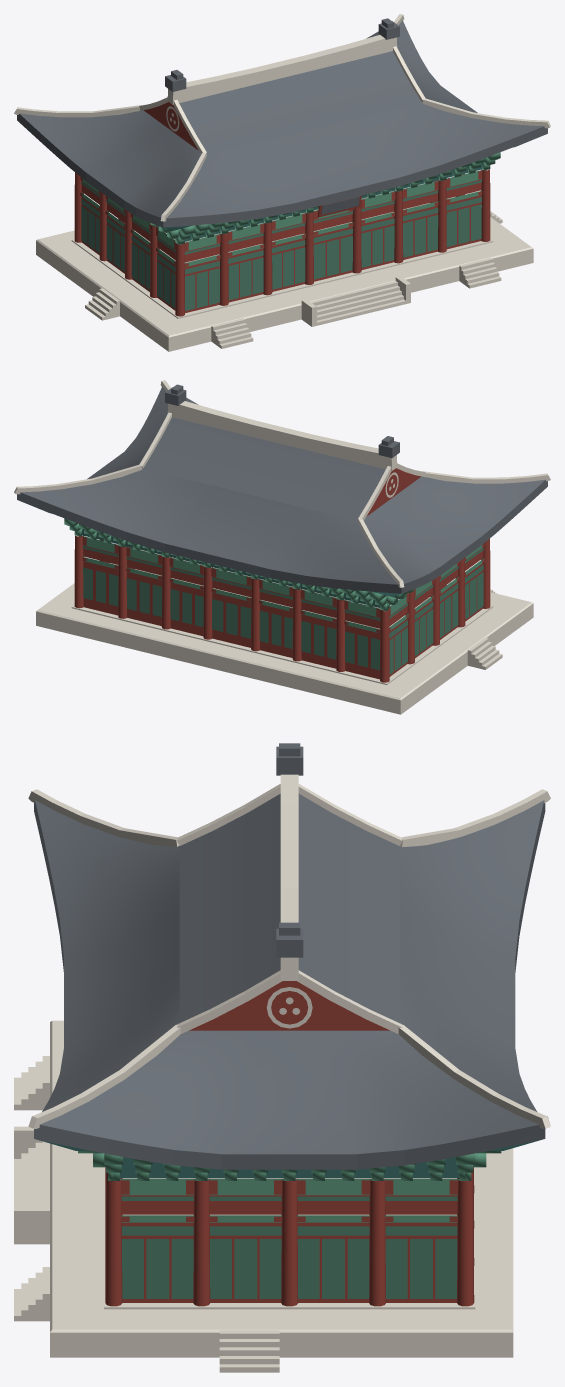
File: seoul-jogyesa.glb
3 views of the same model, one above another, from view 1: azimuth 30°, elevation 25°; view 2: azimuth 150°, elevation 25°; view 3: azimuth 270°, elevation 25° (orthographic). The views are drawn at different scales.
Visible parts, largest first — view 1: Jogyesa Daeungjeon; view 2: Jogyesa Daeungjeon; view 3: Jogyesa Daeungjeon.
Part boxes in pixels (x1,y1,x2,y2): Jogyesa Daeungjeon: [14, 14, 550, 351]; Jogyesa Daeungjeon: [14, 380, 550, 714]; Jogyesa Daeungjeon: [14, 743, 550, 1372].
Bounding box in the file's own units: 40.4 × 20.25 × 26.88.
